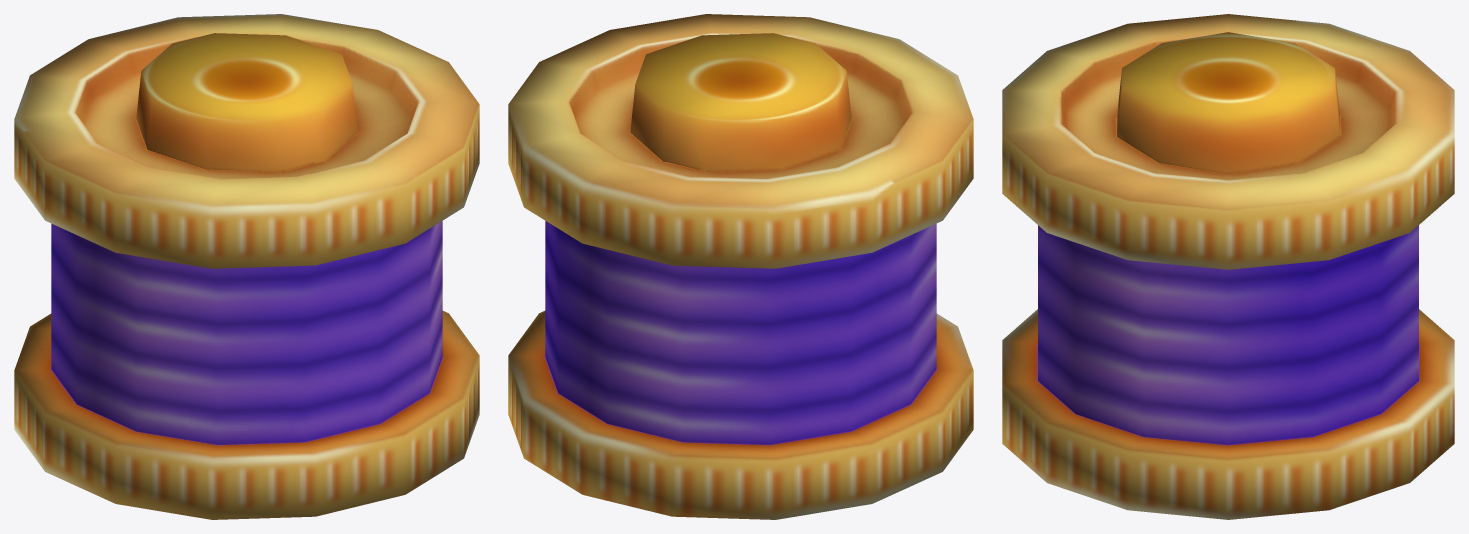
File: YarnSpool.fbx
3 renders of one model, left to right at view 1: azimuth 30°, elevation 25°; view 2: azimuth 150°, elevation 25°; view 3: azimuth 270°, elevation 25°, orthographic.
Parts seen in each view (by area): view 1: YarnSpool; view 2: YarnSpool; view 3: YarnSpool.
Part boxes in pixels (x1,y1,x2,y2): YarnSpool: [14, 14, 479, 519]; YarnSpool: [508, 14, 973, 519]; YarnSpool: [1002, 14, 1454, 519].
Size of the model in its own units: 85.88 by 77.05 by 83.73.
